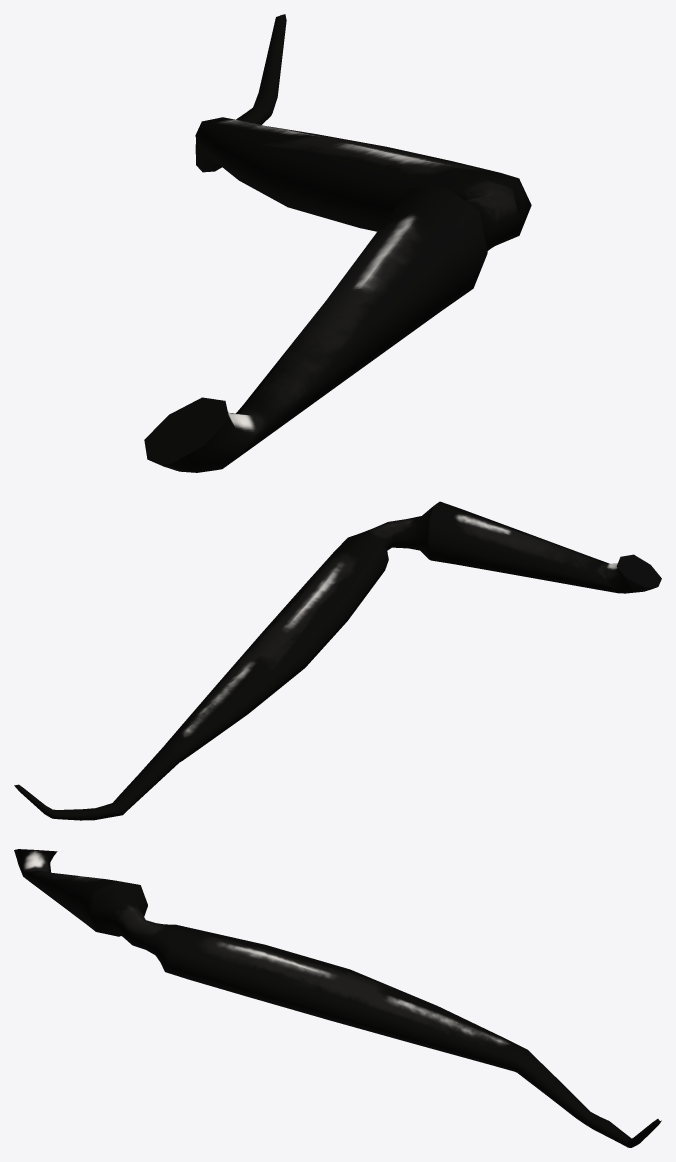
File: Enemy_Cockroach_001_BLeg.fbx
3 views of the same model, one above another, from view 1: azimuth 30°, elevation 25°; view 2: azimuth 150°, elevation 25°; view 3: azimuth 270°, elevation 25° (orthographic). The views are drawn at different scales.
Visible parts, largest first — view 1: polySurface2; view 2: polySurface2; view 3: polySurface2.
Part boxes in pixels (x1,y1,x2,y2): polySurface2: (144, 14, 531, 472); polySurface2: (14, 501, 661, 820); polySurface2: (14, 849, 661, 1147).
Size of the model in its own units: 87.19 by 41.4 by 126.
